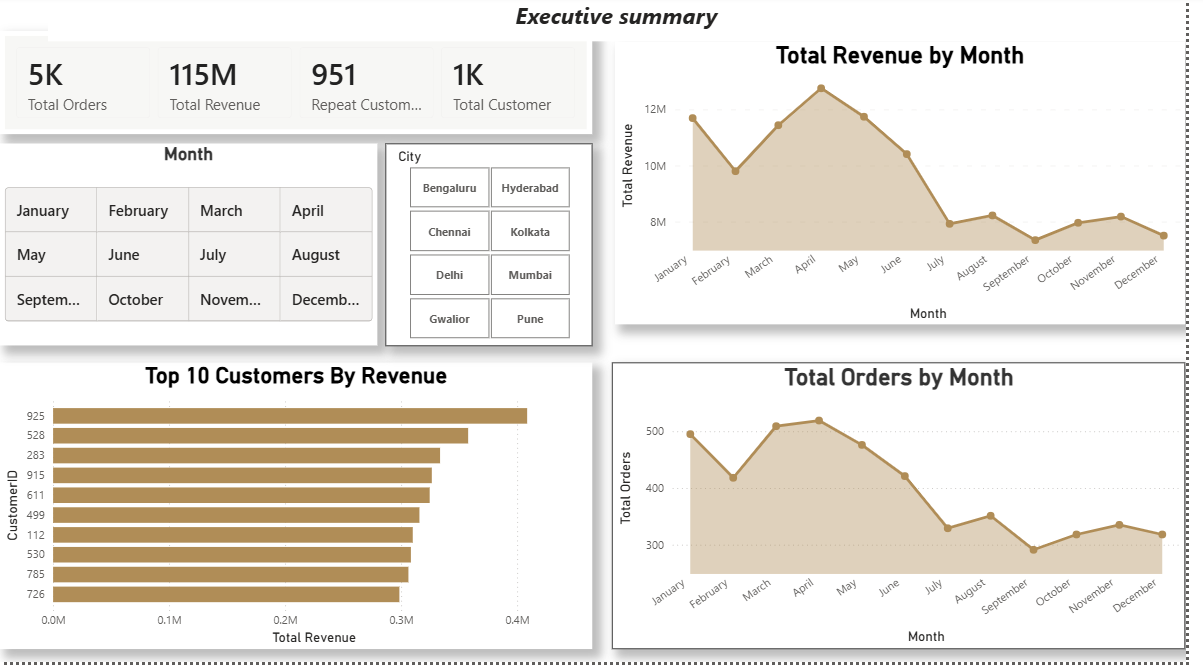

This screenshot's page, from the dashboard's own definition file:
{"tool":"powerbi","page":{"name":"Executive Summary","canvas":[1280,720],"ordinal":0},"visuals":[{"type":"cardVisual","fields":{"Data":["Orders.Total Orders","Orders.Total Revenue","Orders.Repeat Customers","Customers.Total Customer"]},"box":[0,38.2,639.4,111.3],"z":0},{"type":"lineChart","fields":{"Y":["Orders.Total Revenue"],"Category":["Orders.OrderDate.Variation.Date Hierarchy.Month"]},"box":[663.3,50.9,615.6,305.4],"z":1000},{"type":"stackedAreaChart","fields":{"Category":["Orders.OrderDate.Variation.Date Hierarchy.Month"],"Y":["Orders.Total Orders"]},"box":[660.6,396.7,618.5,309.3],"z":2000},{"type":"barChart","title":"Top 10 Customers By Revenue","fields":{"Category":["Customers.CustomerID"],"Y":["Orders.Total Revenue"]},"box":[0,396.7,639.6,309.3],"z":3000},{"type":"cardVisual","title":"Month","fields":{"Rows":["Orders.OrderDate.Variation.Date Hierarchy.Month"]},"box":[0,160.7,407.2,217.9],"z":4000},{"type":"slicer","fields":{"Values":["Customers.City"]},"box":[416.1,160.3,223.5,218.6],"z":5000},{"type":"textbox","box":[51.8,0,1227.4,50.2],"z":6000}]}

Visuals, with their boxes in screenshot pixels (x1, y1, x2, y2), scaled from the page's 1280x720 canvas onto the 1203x667 screenshot:
cardVisual - Orders.Total Orders x Orders.Total Revenue: 0:35:601:138
lineChart - Orders.Total Revenue x Orders.OrderDate.Variation.Date Hierarchy.Month: 623:47:1202:330
stackedAreaChart - Orders.OrderDate.Variation.Date Hierarchy.Month x Orders.Total Orders: 621:367:1202:654
"Top 10 Customers By Revenue" barChart: 0:367:601:654
"Month" cardVisual: 0:149:383:351
slicer - Customers.City: 391:149:601:351
textbox: 49:0:1202:47
